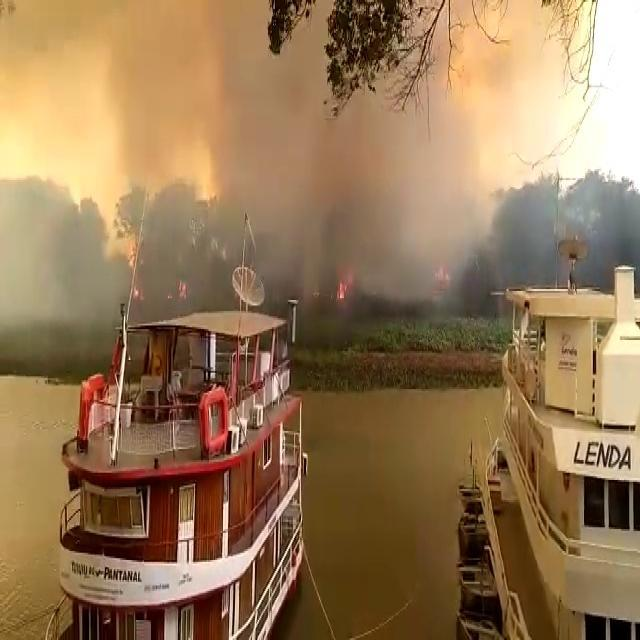Fire: (319, 252, 353, 304), (430, 252, 468, 296), (169, 270, 193, 314), (129, 251, 143, 300)
Smoke: (50, 9, 608, 186), (231, 151, 491, 322)
